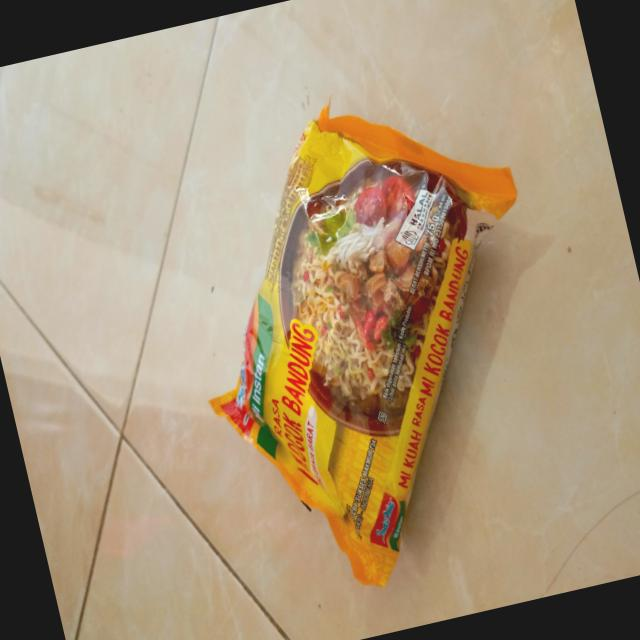indomie-mie-kocok-bandung: (148, 61, 598, 614)
